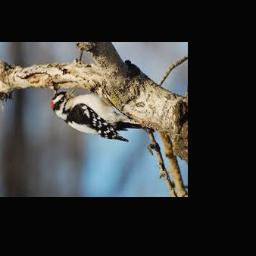Woodpecker: (52, 87, 148, 142)
